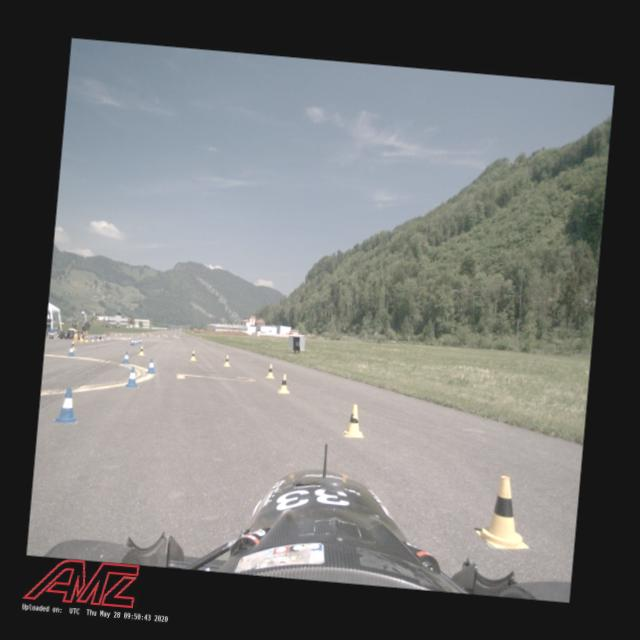blue_cone: (54, 386, 82, 424), (125, 366, 140, 388), (146, 358, 156, 373), (121, 350, 131, 364), (67, 344, 75, 356), (130, 338, 135, 345), (138, 338, 142, 343), (134, 338, 136, 344), (136, 338, 138, 344)
yellow_cone: (474, 474, 535, 552), (341, 403, 367, 438), (276, 372, 290, 393), (266, 364, 276, 378), (223, 354, 231, 366), (137, 345, 145, 356), (190, 350, 197, 361), (70, 340, 76, 350), (73, 328, 78, 336), (80, 335, 84, 341), (84, 336, 88, 342), (90, 335, 94, 341), (96, 335, 100, 341), (100, 336, 104, 340)
